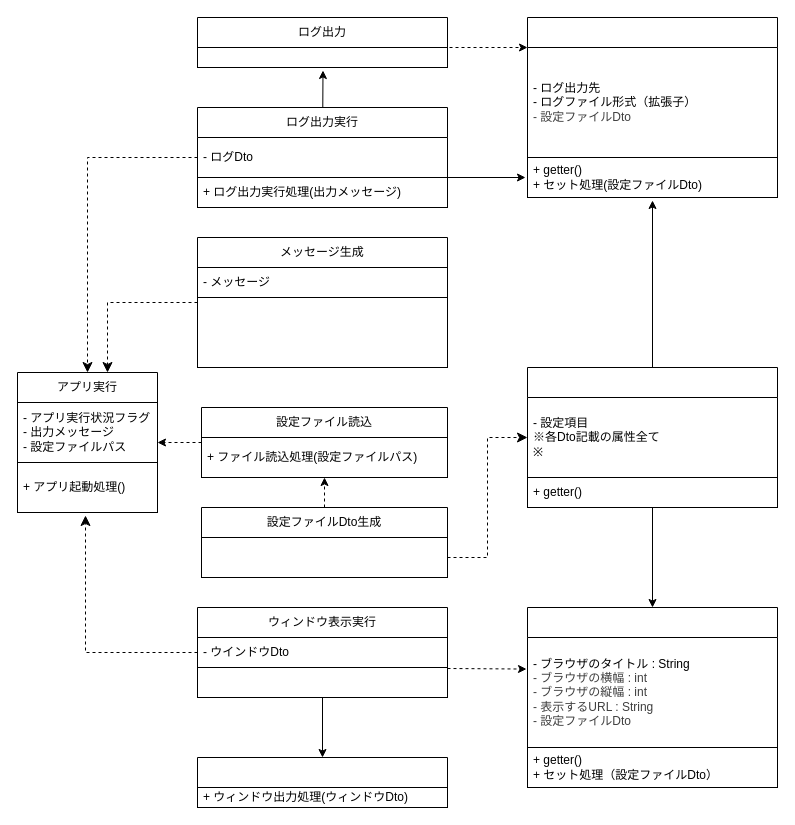
Image size: 795x825. Some labels were removed from this diagram. Each missing label, with the box of its shape:
+ ログ出力処理(ログDto): (196, 46, 448, 68)
+ 起動メッセージ生成(出力対象の処理名) + エラーメッセージ生成(出力対象の処理名) + 終了メッセージ生成(出力対象の処理名): (196, 296, 448, 368)
+ウィンドウ出力実行処理(): (196, 666, 448, 698)
- インスタンス取得処理() + インスタンス初期化処理(): (200, 536, 448, 578)
ウィンドウDto: (526, 606, 778, 788)
ウィンドウ表示: (196, 756, 448, 808)
ログDto: (526, 16, 778, 198)
設定ファイルDto: (526, 366, 778, 508)
